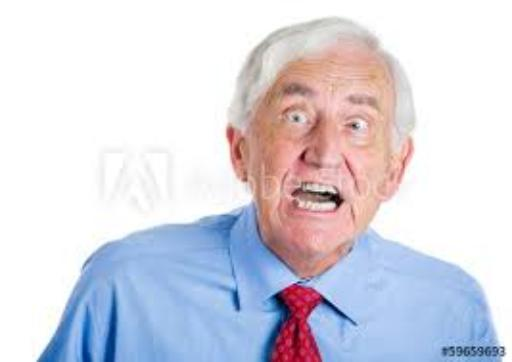left_eye: (343, 121, 372, 135)
left_lip_corner: (338, 196, 353, 209)
right_eye: (285, 112, 312, 127)
